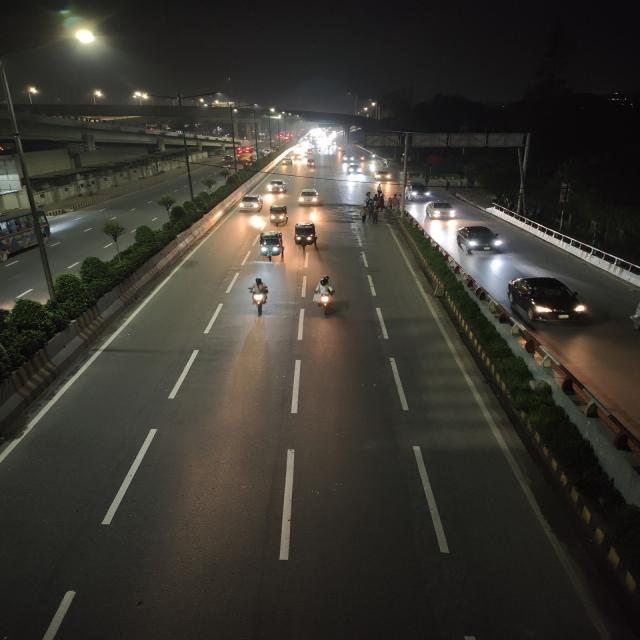bus: (0, 206, 55, 274)
car: (502, 273, 593, 329), (454, 223, 510, 259), (424, 200, 458, 222), (237, 193, 264, 213), (405, 184, 434, 202), (296, 188, 322, 206), (266, 178, 289, 194), (373, 168, 393, 182)
cng: (255, 230, 287, 262), (293, 221, 322, 251), (266, 205, 290, 226)
motorcycle: (309, 275, 342, 318), (244, 275, 274, 317), (305, 158, 317, 168)
pedestrian: (364, 207, 378, 223), (360, 190, 373, 204), (376, 196, 386, 212), (373, 181, 383, 196)
